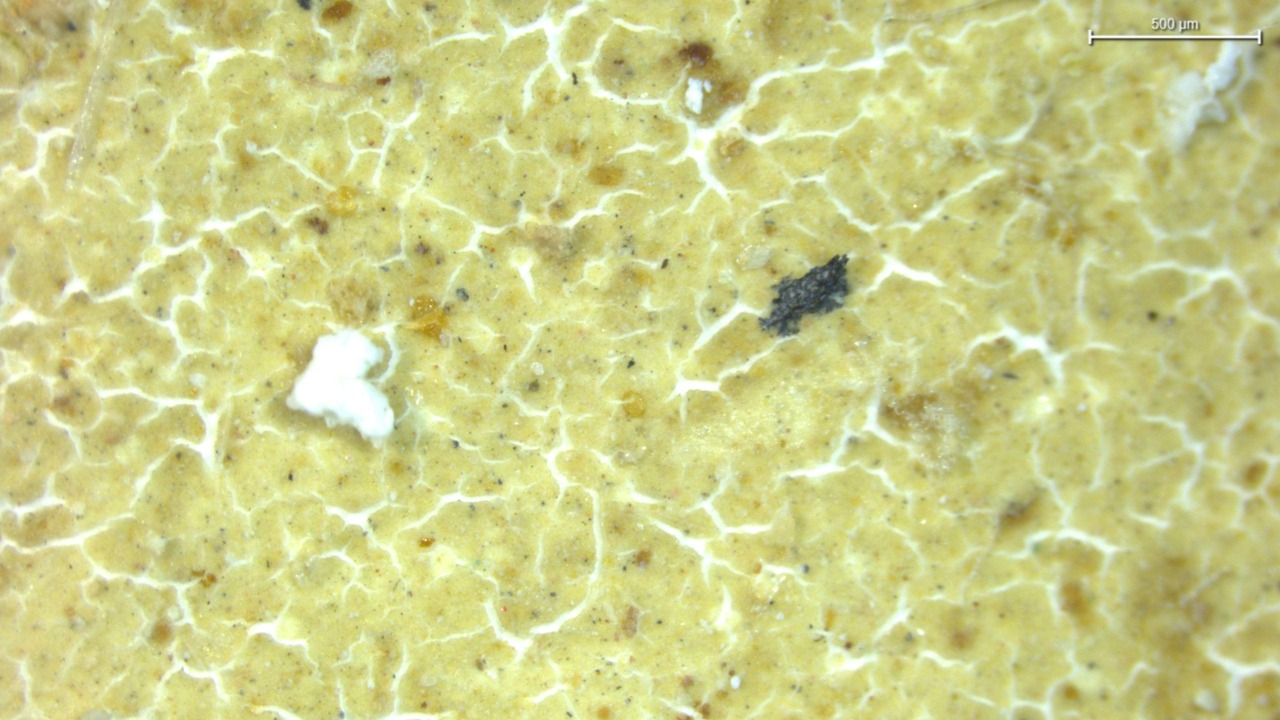microplastic_fragment: (285, 331, 395, 449), (686, 78, 706, 113)
